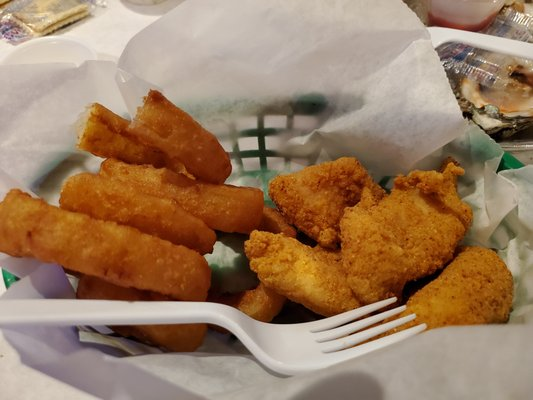burger: (9, 294, 428, 375)
